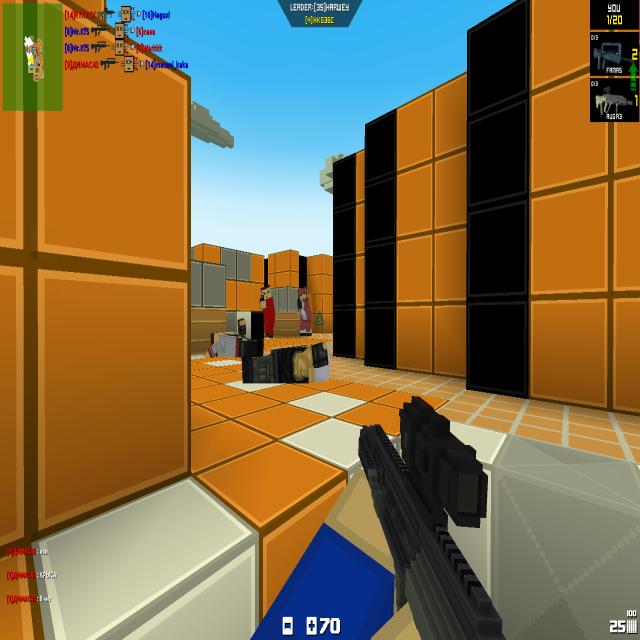enemy: (259, 284, 276, 339), (297, 286, 312, 337)
